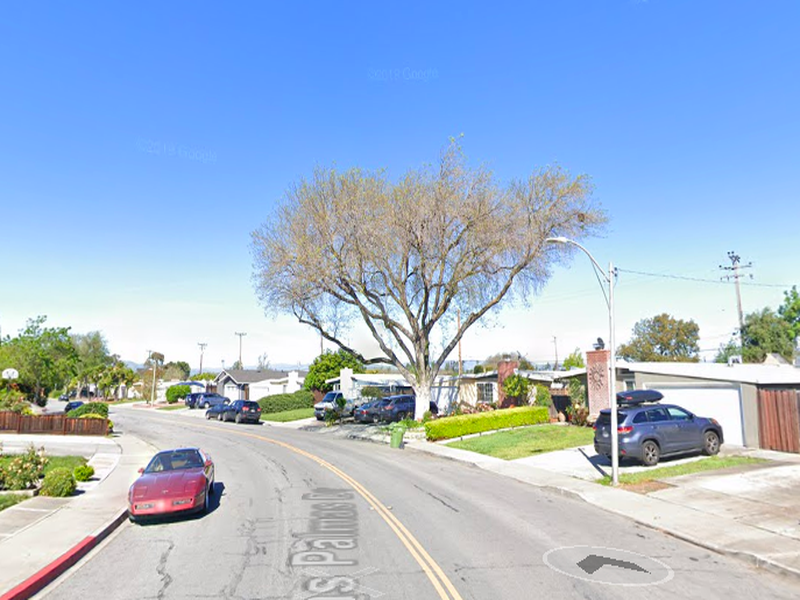tree: (248, 129, 612, 432)
